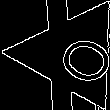O_NW: (34, 22, 110, 86)
